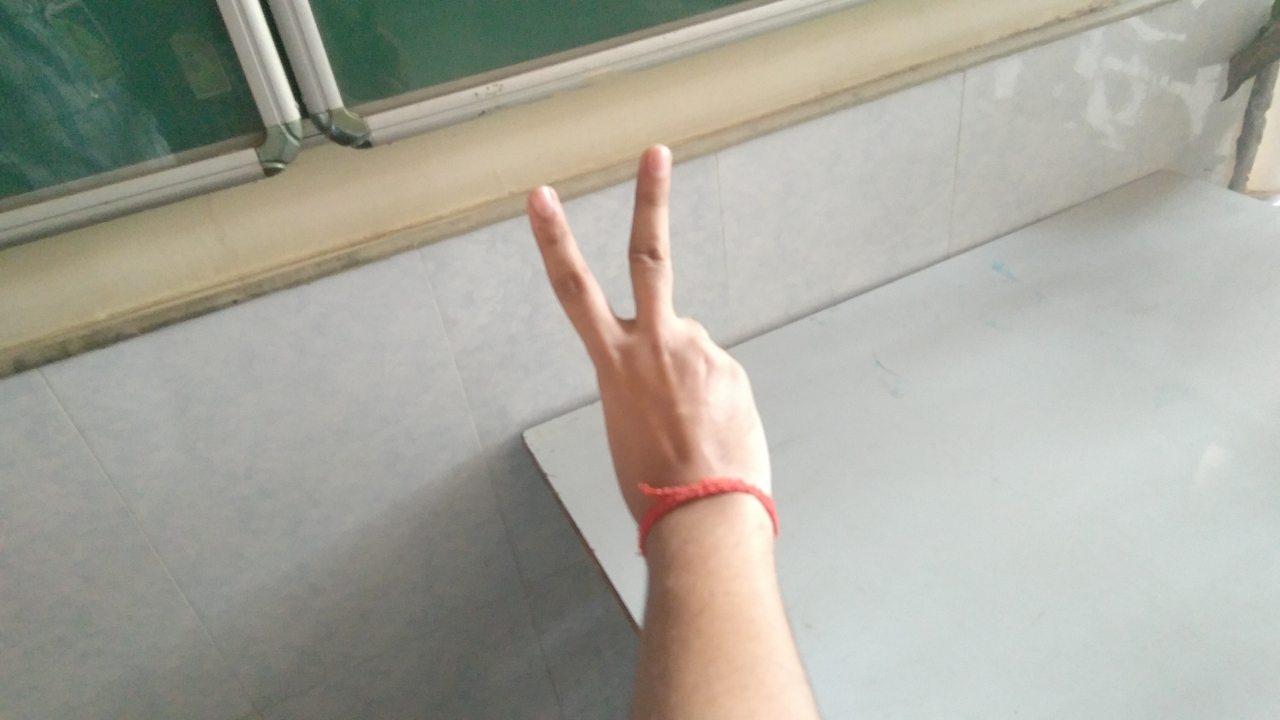fingertip: (514, 170, 574, 226), (626, 128, 682, 178)
